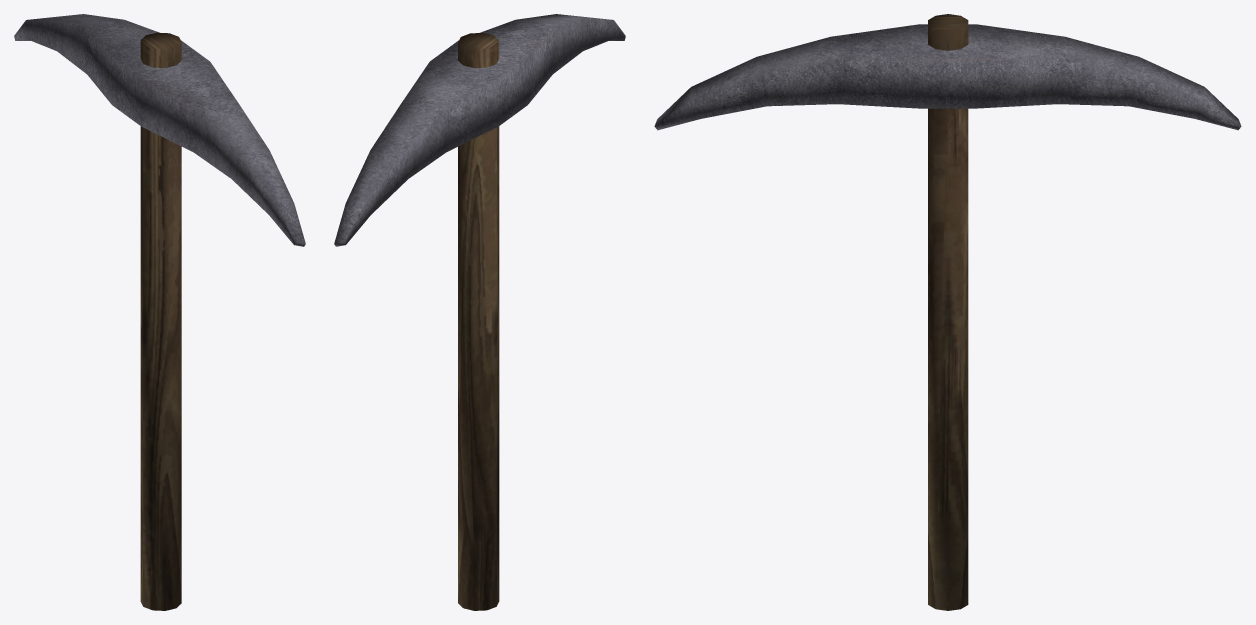
The model's file is Pickaxe.fbx.
The picture shows the model from 3 angles, left to right: view 1: azimuth 30°, elevation 25°; view 2: azimuth 150°, elevation 25°; view 3: azimuth 270°, elevation 25°; orthographic projection. The views are drawn at different scales.
Visible parts, largest first — view 1: Axe_Stick, Axe_Blade; view 2: Axe_Stick, Axe_Blade; view 3: Axe_Blade, Axe_Stick.
Boxes of the visible parts, x1,y1,x2,y2 form: Axe_Stick: [140, 32, 181, 610]; Axe_Blade: [14, 14, 305, 246]; Axe_Stick: [458, 33, 499, 610]; Axe_Blade: [334, 14, 625, 246]; Axe_Blade: [654, 24, 1241, 130]; Axe_Stick: [928, 14, 968, 610].
Size of the model in its own units: 19.44 by 150 by 138.
2 materials, 2 textured.
